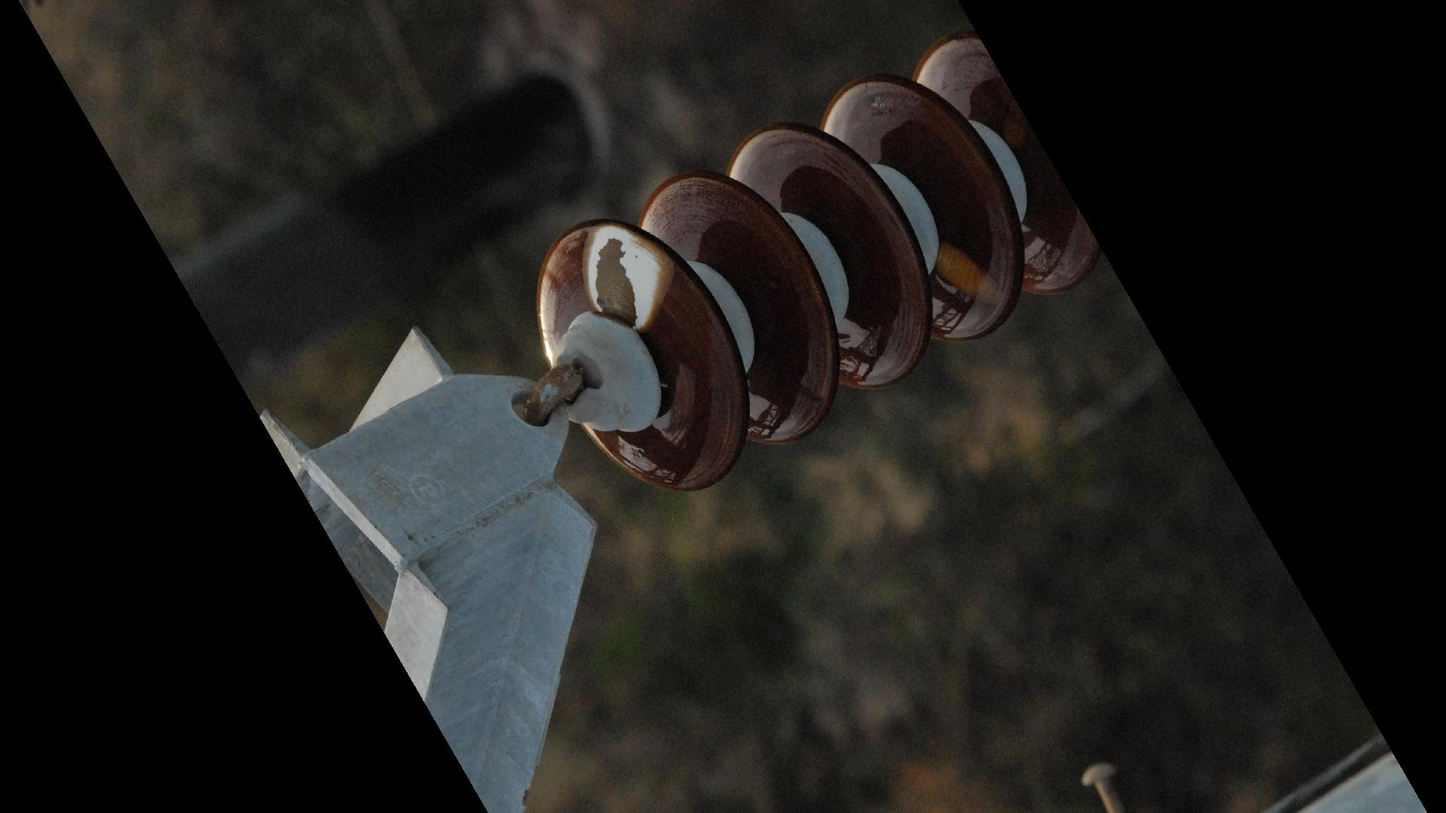insulator: (524, 31, 1105, 502)
insulator_flashover: (577, 218, 679, 334), (932, 239, 1002, 306)
